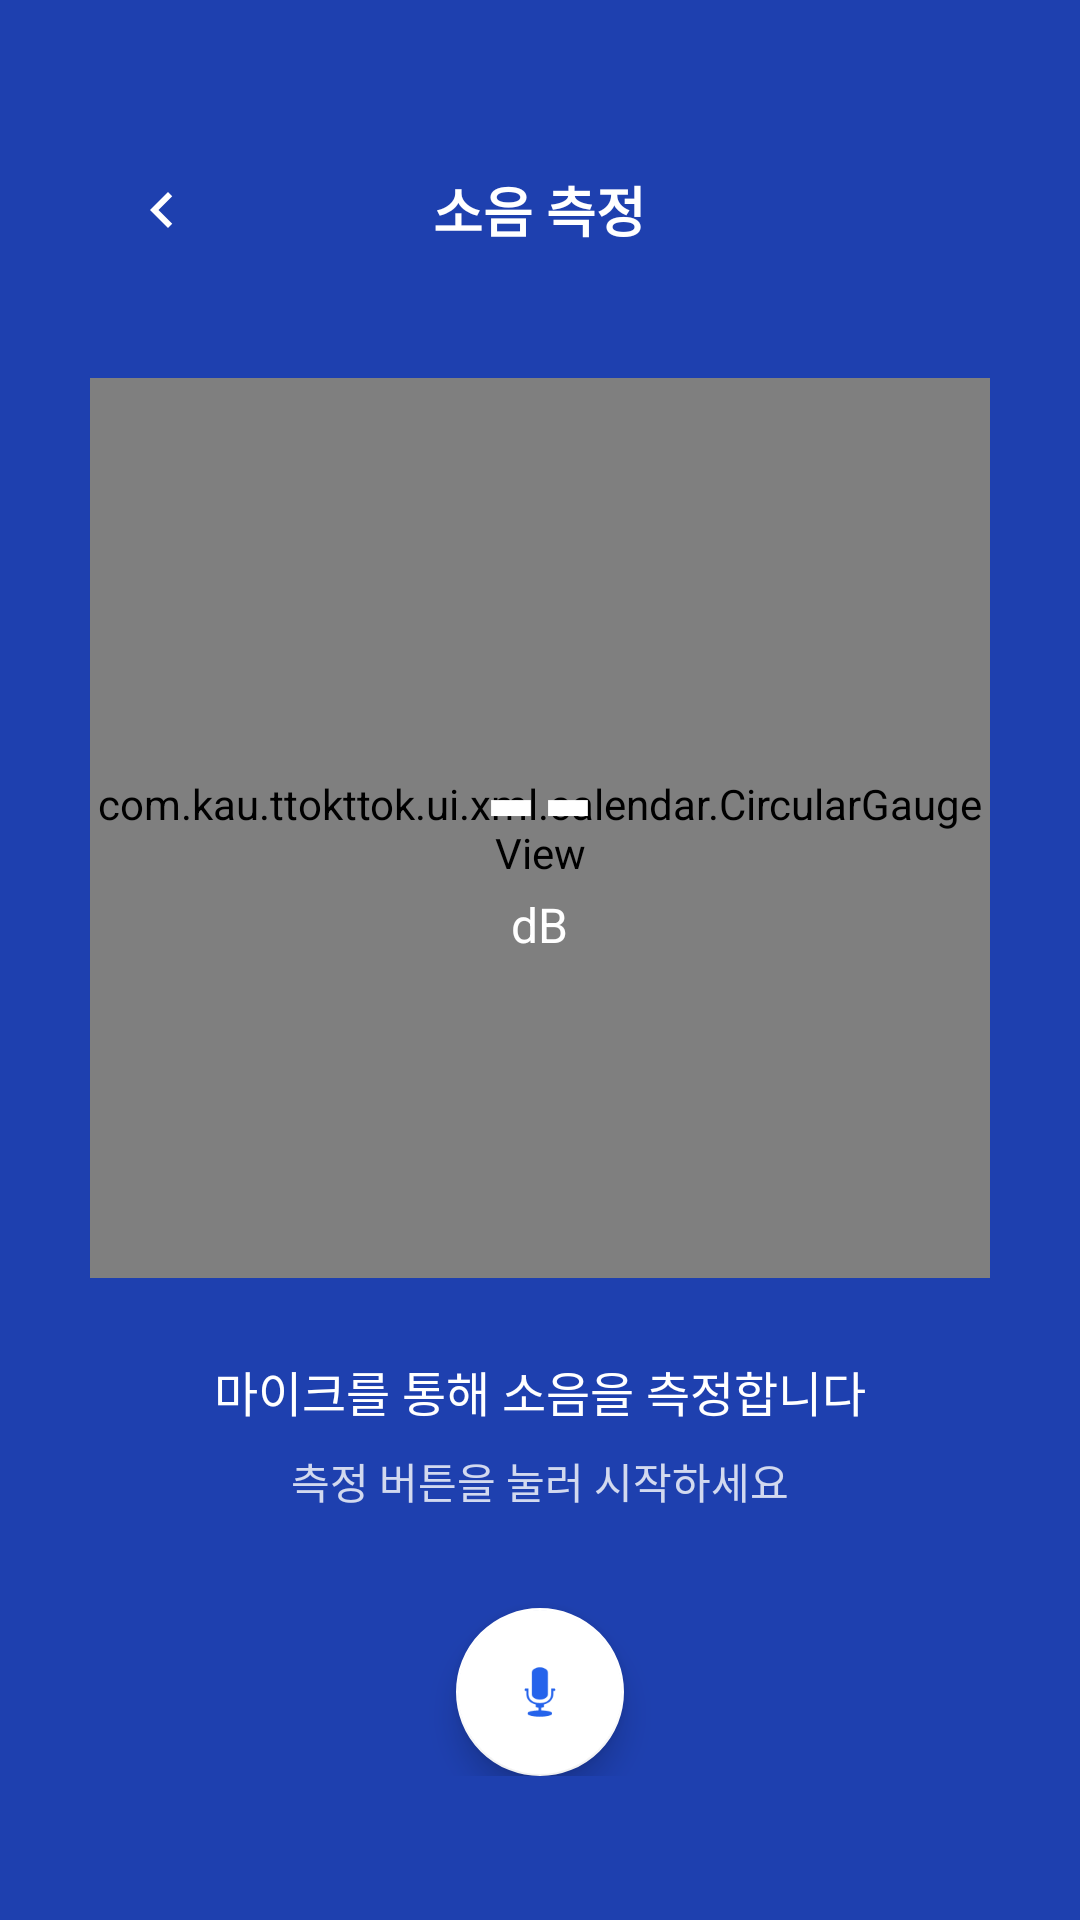

Named icons in this screenshot (1080×1920) and their bounding boxes, (x1, y1, x2, y2):
뒤로가기: (150, 192, 172, 228)
측정 시작: (456, 1608, 624, 1776)
